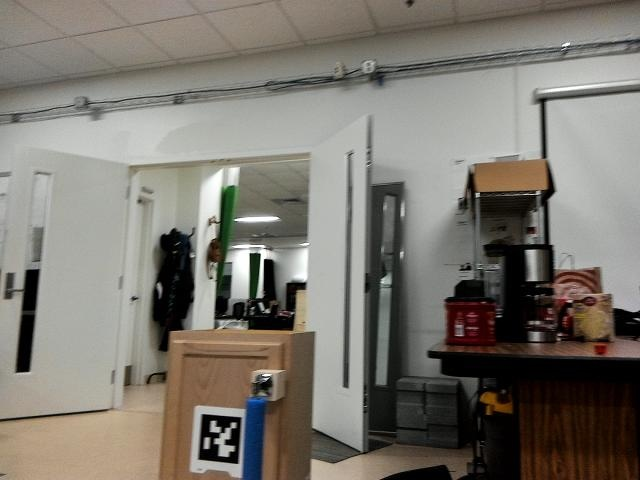noodle_handle: (242, 387, 270, 480)
